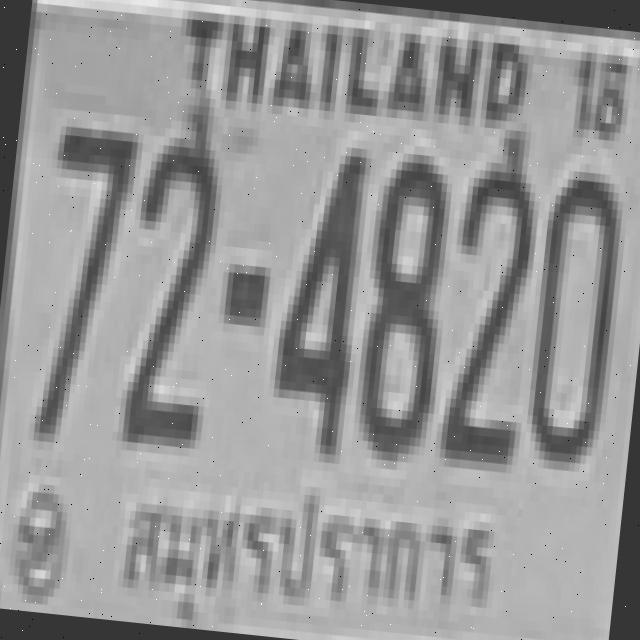0: (520, 164, 628, 461)
2: (114, 121, 225, 444), (434, 151, 538, 464)
4: (262, 137, 367, 450)
7: (23, 116, 134, 438), (34, 116, 134, 336)
8: (351, 147, 455, 450)
SamutPrakan: (103, 457, 513, 640)
